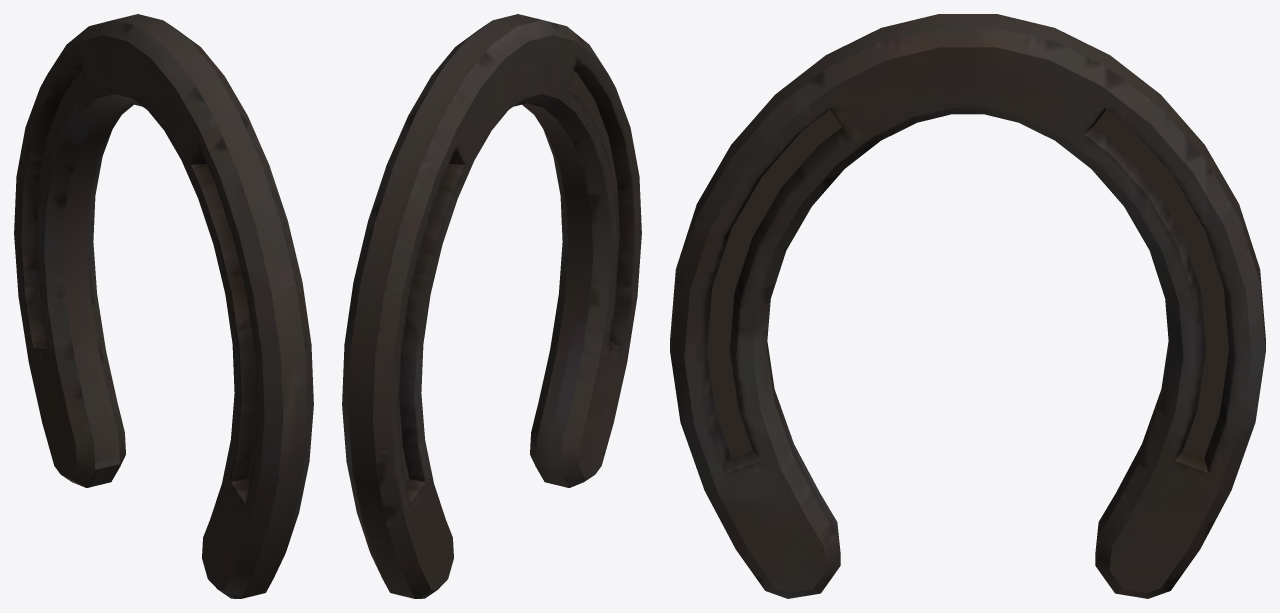
3 renders of one model, left to right at view 1: azimuth 30°, elevation 25°; view 2: azimuth 150°, elevation 25°; view 3: azimuth 270°, elevation 25°, orthographic. The views are drawn at different scales.
Parts seen in each view (by area): view 1: body0_model0_lod0_mesh0; view 2: body0_model0_lod0_mesh0; view 3: body0_model0_lod0_mesh0.
Part boxes in pixels (<box>): body0_model0_lod0_mesh0: <box>14,14,313,598</box>; body0_model0_lod0_mesh0: <box>342,14,641,598</box>; body0_model0_lod0_mesh0: <box>670,14,1265,598</box>.
Bounding box in the file's own units: 2 × 19.57 × 18.5.
1 material, 1 textured.
